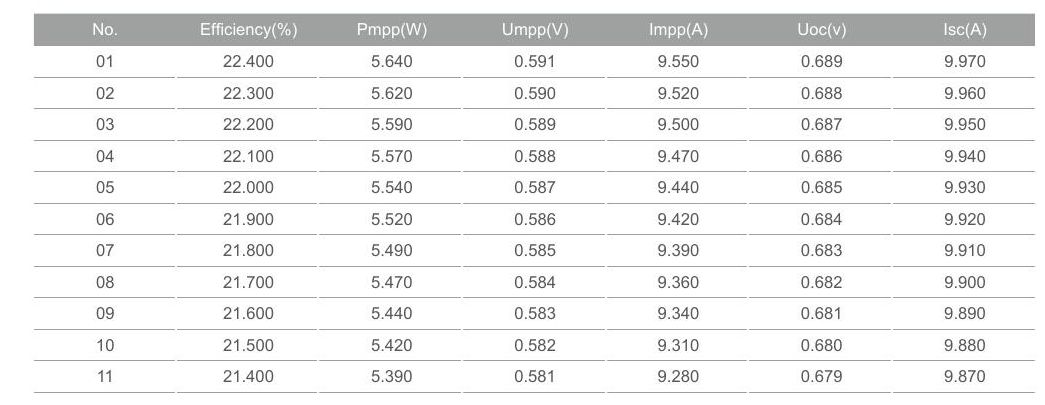table: (17, 3, 1045, 405)
table column: (178, 9, 319, 400), (892, 9, 1026, 397), (471, 10, 600, 399), (617, 11, 746, 397), (329, 10, 453, 398), (763, 11, 881, 399), (52, 8, 164, 396)
table column header: (34, 15, 1031, 45)
table row: (38, 144, 1040, 171), (39, 176, 1040, 203), (39, 17, 1031, 44), (39, 301, 1045, 327), (38, 333, 1044, 359), (38, 206, 1042, 232), (37, 79, 1038, 105), (38, 365, 1044, 390), (40, 270, 1045, 295), (38, 113, 1039, 137), (44, 48, 1044, 72), (38, 240, 1043, 263)
